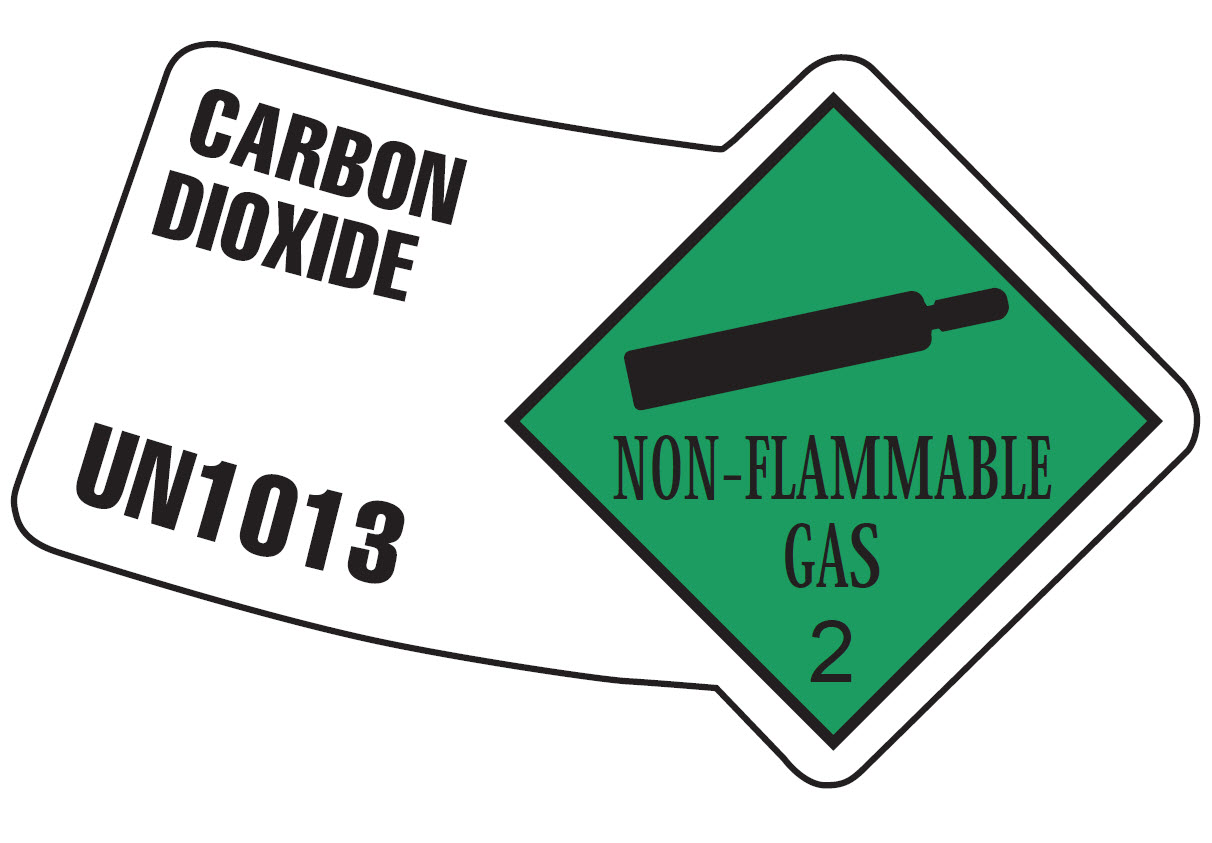NonFlammableGas: (519, 106, 1149, 728)
